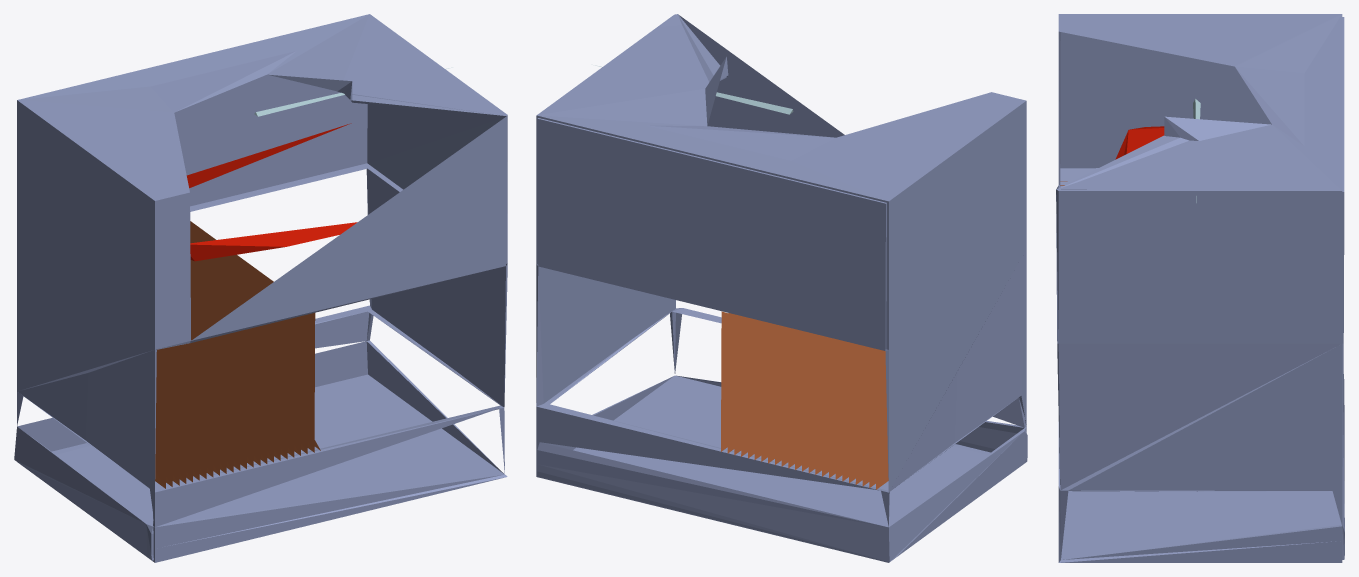
The model's file is ew-cooling-tower.lod2.glb.
3 renders of one model, left to right at view 1: azimuth 30°, elevation 25°; view 2: azimuth 150°, elevation 25°; view 3: azimuth 270°, elevation 25°, orthographic. The views are drawn at different scales.
Parts seen in each view (by area): view 1: Plane_0; view 2: Plane_0; view 3: Plane_0.
Part boxes in pixels (x1,y1,x2,y2): Plane_0: (14, 14, 507, 562); Plane_0: (536, 14, 1027, 562); Plane_0: (1056, 14, 1344, 562).
Size of the model in its own units: 12.2 by 12 by 7.97.
